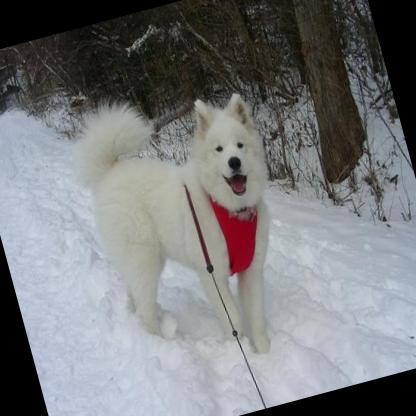Samoyed: (56, 58, 314, 387)
